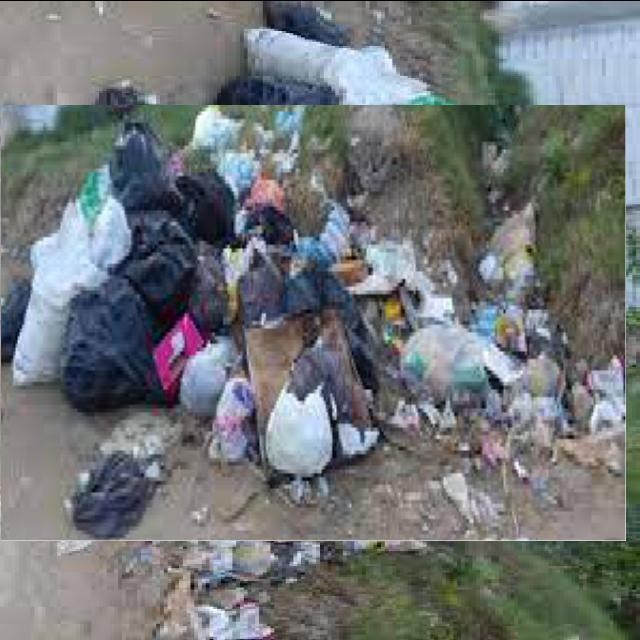Trashbag: (54, 296, 150, 409), (112, 115, 179, 210), (127, 225, 184, 320), (175, 163, 240, 240)
